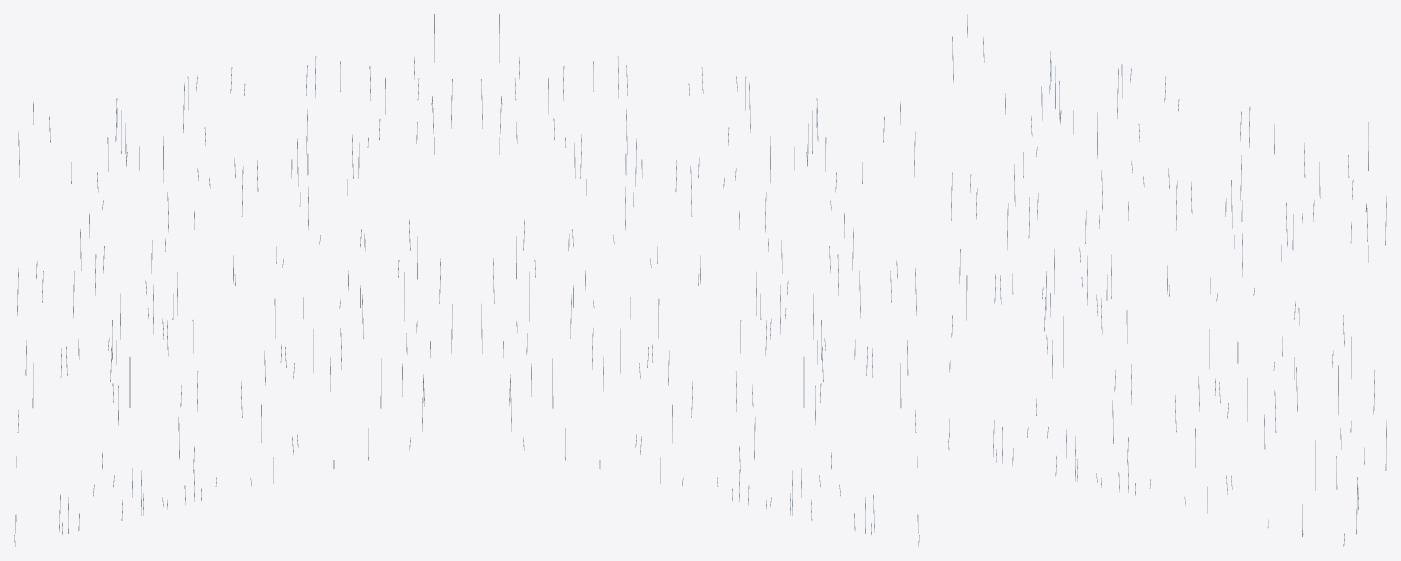
The model's file is lab-rain-v1.glb.
The picture shows the model from 3 angles, left to right: view 1: azimuth 30°, elevation 25°; view 2: azimuth 150°, elevation 25°; view 3: azimuth 330°, elevation 25°; orthographic projection.
Visible parts, largest first — view 1: visual1_rain_streaks; view 2: visual1_rain_streaks; view 3: visual1_rain_streaks.
Boxes of the visible parts, x1,y1,x2,y2 form: visual1_rain_streaks: [14, 14, 452, 546]; visual1_rain_streaks: [481, 14, 919, 546]; visual1_rain_streaks: [948, 14, 1386, 546].
Size of the model in its own units: 1.42 by 1.36 by 0.00138.
